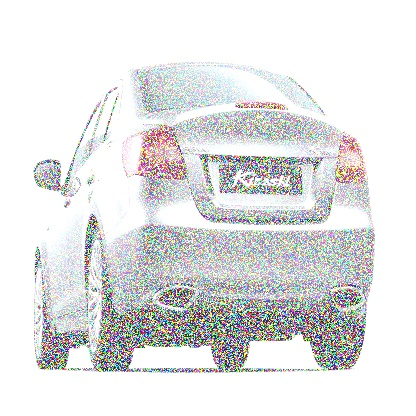Vehicle: (34, 61, 376, 371)
